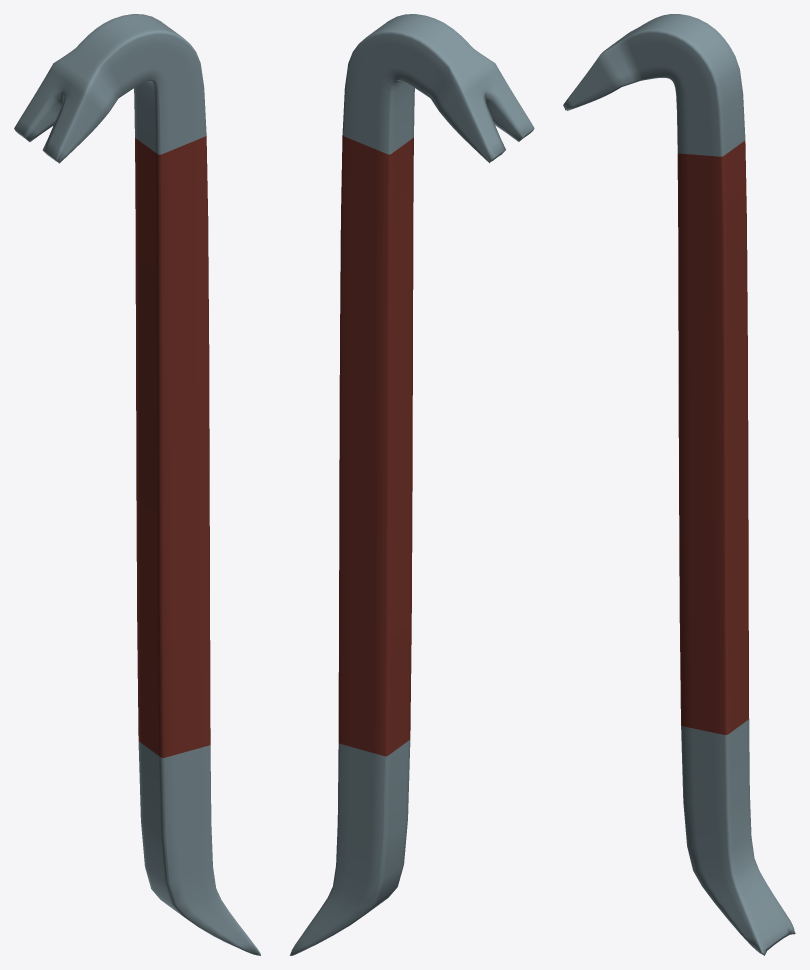
The model's file is crowbar.glb.
The picture shows the model from 3 angles, left to right: view 1: azimuth 30°, elevation 25°; view 2: azimuth 150°, elevation 25°; view 3: azimuth 330°, elevation 25°; orthographic projection. The views are drawn at different scales.
Parts seen in each view (by area): view 1: crowbar; view 2: crowbar; view 3: crowbar.
Boxes of the visible parts, left/top/right/bottom form: crowbar: left=14, top=14, right=260, bottom=955; crowbar: left=289, top=14, right=534, bottom=955; crowbar: left=563, top=14, right=795, bottom=955.
Bounding box in the file's own units: 0.5872 × 2.53 × 0.209.
